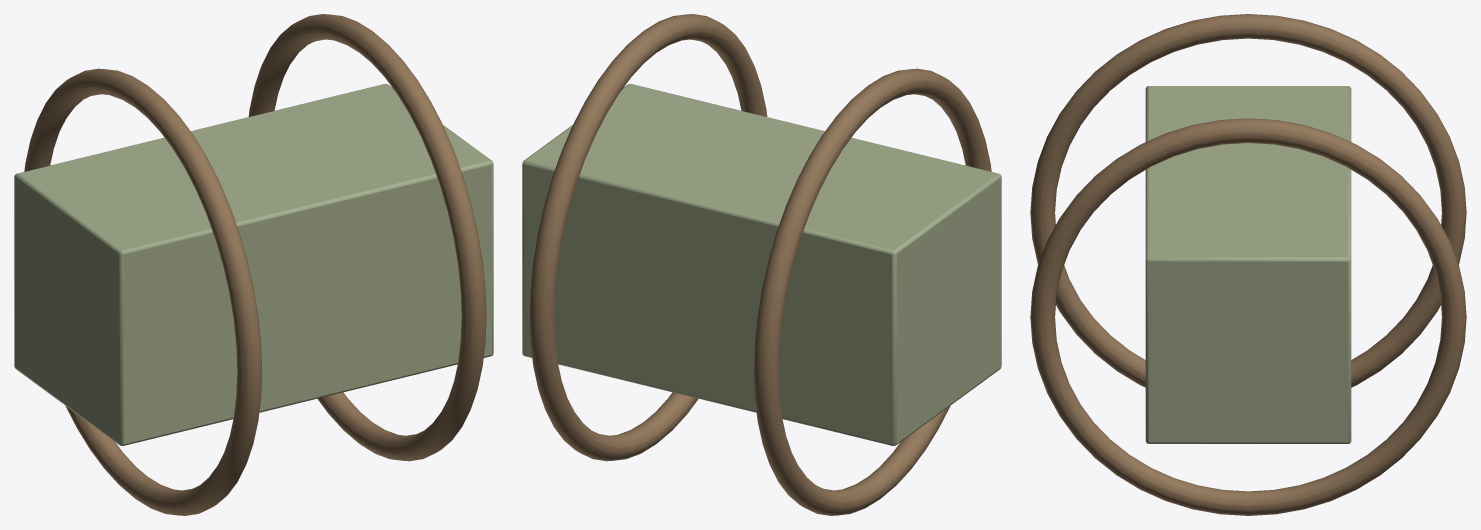
The model's file is SM_KIT_MILITIA_BASIC.fbx.
3 views of the same model, side by side, from view 1: azimuth 30°, elevation 25°; view 2: azimuth 150°, elevation 25°; view 3: azimuth 270°, elevation 25° (orthographic). The views are drawn at different scales.
Visible parts, largest first — view 1: SM_KIT_MILITIA_BASIC; view 2: SM_KIT_MILITIA_BASIC; view 3: SM_KIT_MILITIA_BASIC.
Part boxes in pixels (<box>): SM_KIT_MILITIA_BASIC: <box>14,14,493,515</box>; SM_KIT_MILITIA_BASIC: <box>522,14,1001,515</box>; SM_KIT_MILITIA_BASIC: <box>1030,14,1466,515</box>.
Size of what is drawn, in the model's own units: 0.2 by 0.212 by 0.212.
